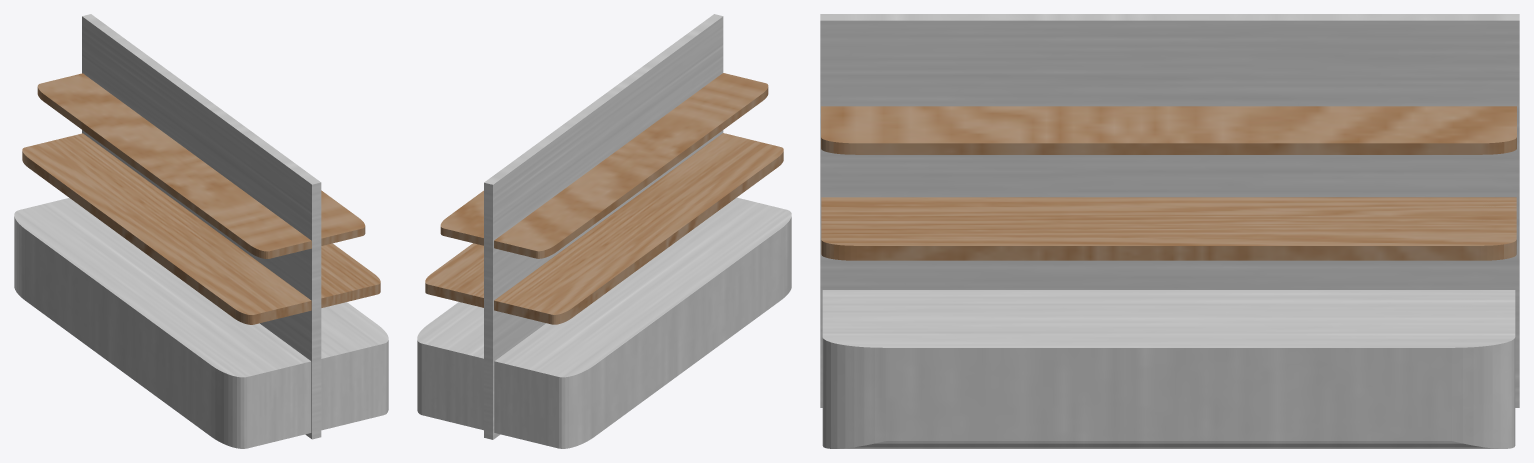
File: bakerystand.fbx
3 views of the same model, side by side, from view 1: azimuth 30°, elevation 25°; view 2: azimuth 150°, elevation 25°; view 3: azimuth 270°, elevation 25° (orthographic). The views are drawn at different scales.
Parts seen in each view (by area): view 1: Cube.010; view 2: Cube.010; view 3: Cube.010.
Part boxes in pixels (x1,y1,x2,y2): Cube.010: (14,14,388,448); Cube.010: (417,14,791,448); Cube.010: (820,14,1519,448).
Bounding box in the file's own units: 1.68 × 2.45 × 4.01.
